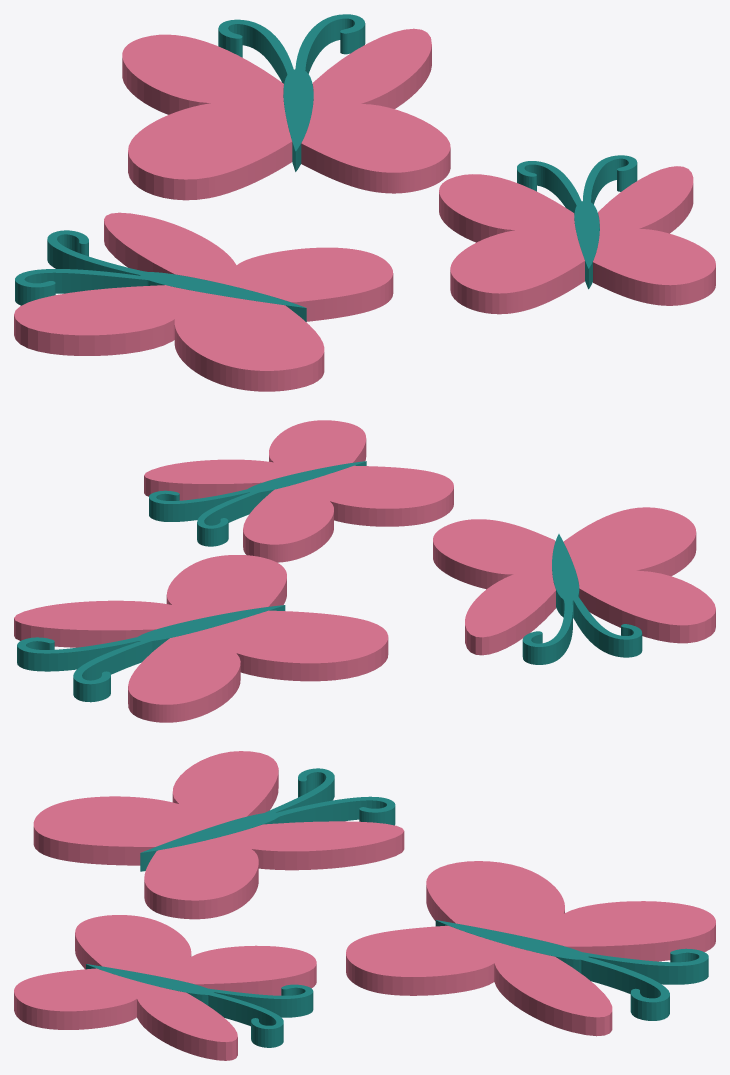
Rendered from fluddershy.obj.
The picture shows the model from 3 angles, top to bottom: view 1: azimuth 30°, elevation 25°; view 2: azimuth 150°, elevation 25°; view 3: azimuth 270°, elevation 25°; orthographic projection. The views are drawn at different scales.
Visible parts, largest first — view 1: path4; view 2: path4; view 3: path4.
Part boxes in pixels (<box>): path4: <box>14,14,715,391</box>; path4: <box>14,420,715,722</box>; path4: <box>14,751,715,1060</box>.
Size of the model in its own units: 0.333 by 0.02 by 0.3393.
